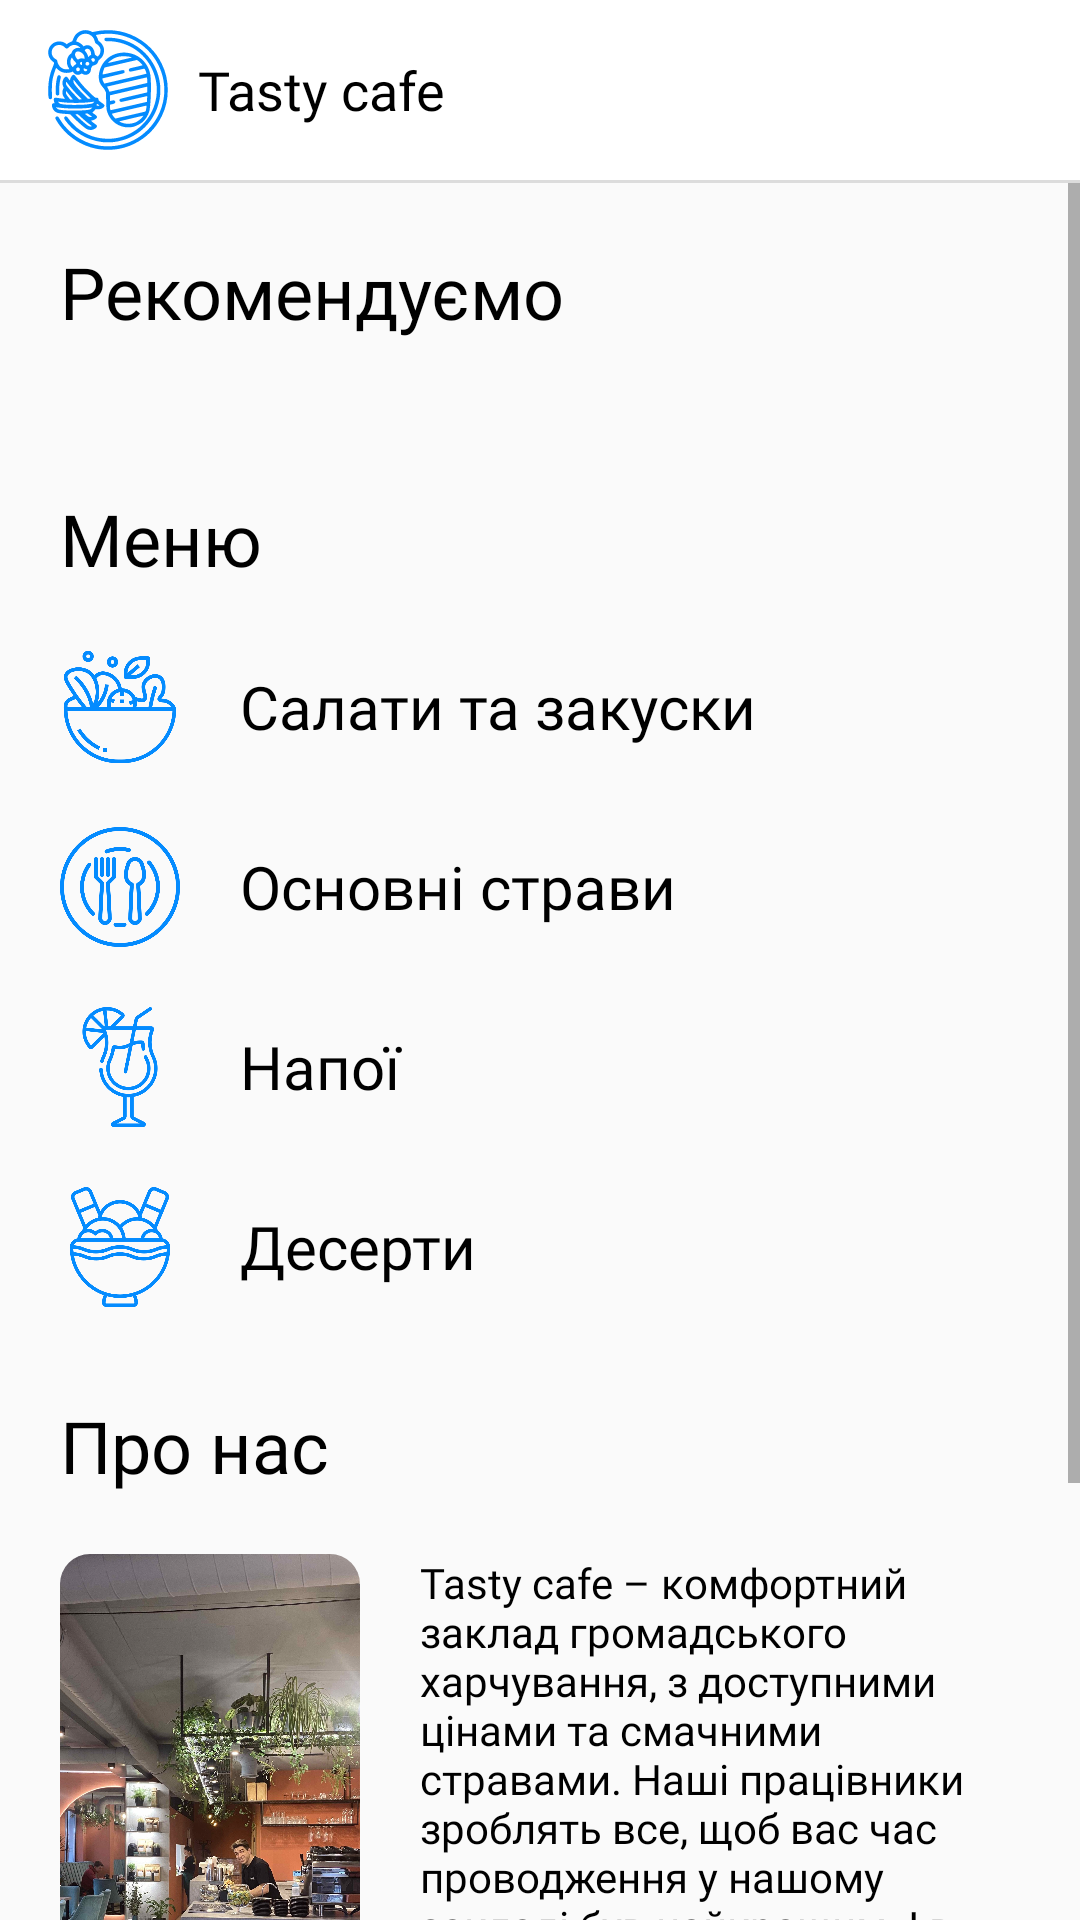

Icons on this 1080*1920 Android screen, each with the point to tap as (x,y):
app: (108,90)
cocktail: (120,1067)
dish: (120,887)
ice cream: (120,1247)
salad: (120,707)
